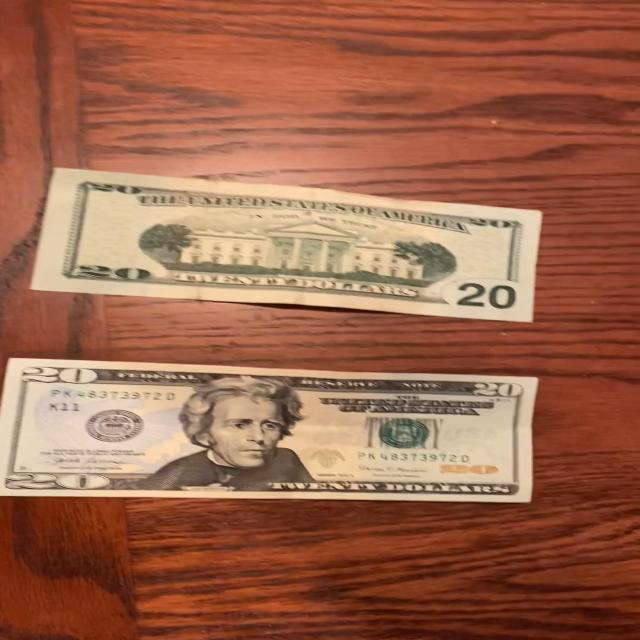20-Back: (24, 166, 556, 325)
20-Front: (0, 352, 539, 500)
